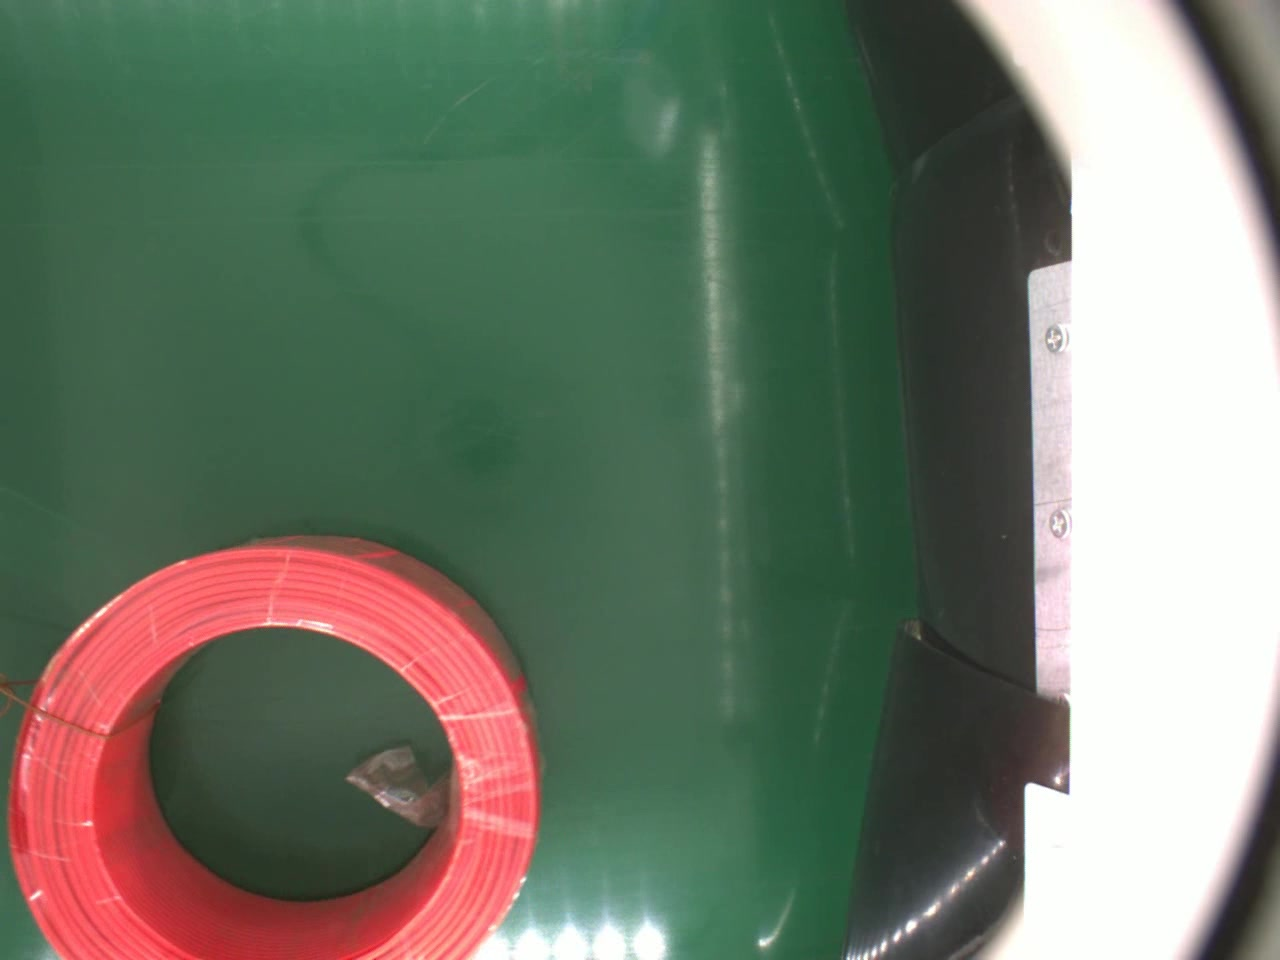red: (0, 532, 542, 960)
